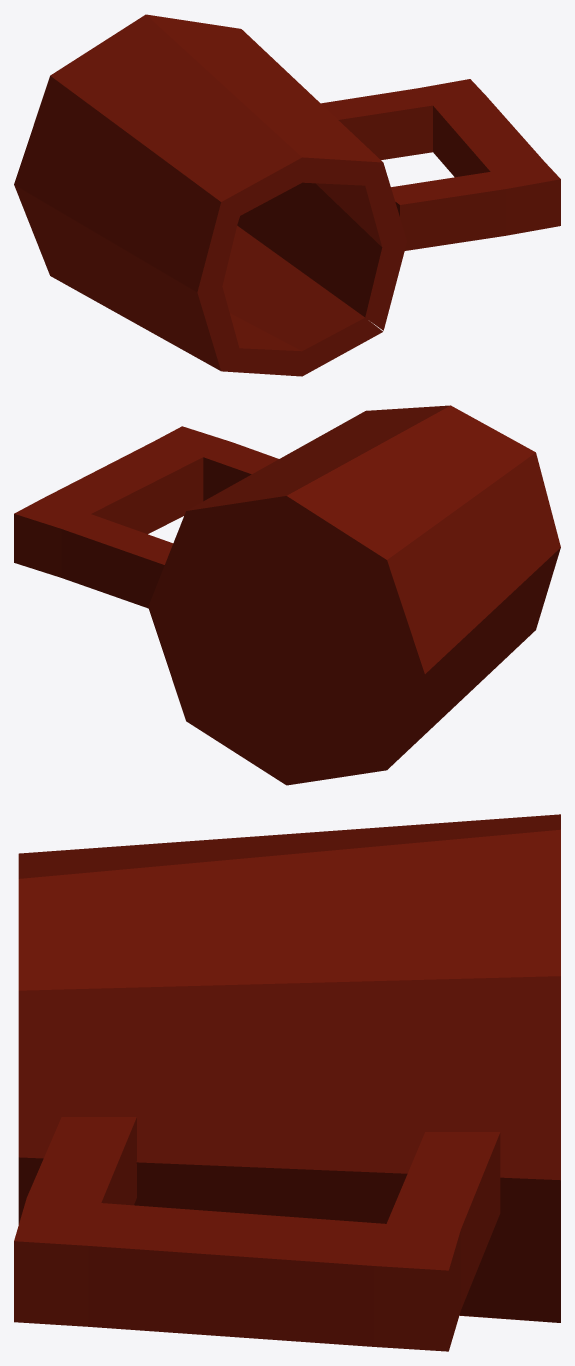
Rendered from BeerMugVisual.obj.
The picture shows the model from 3 angles, top to bottom: view 1: azimuth 30°, elevation 25°; view 2: azimuth 150°, elevation 25°; view 3: azimuth 270°, elevation 25°; orthographic projection. The views are drawn at different scales.
Parts seen in each view (by area): view 1: mug01.024; view 2: mug01.024; view 3: mug01.024.
Part boxes in pixels (x1,y1,x2,y2): mug01.024: (14,14,560,376); mug01.024: (14,405,560,785); mug01.024: (14,814,560,1351).
Size of the model in its own units: 0.1839 by 0.1144 by 0.1186.
